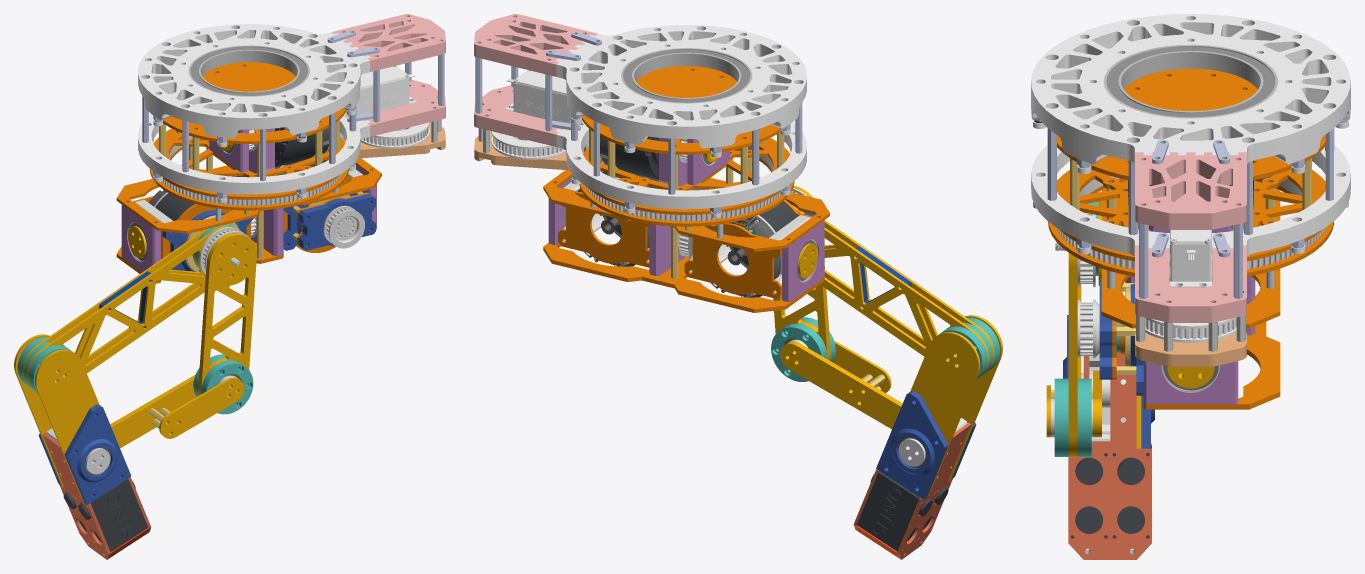
3 renders of one model, left to right at view 1: azimuth 30°, elevation 25°; view 2: azimuth 150°, elevation 25°; view 3: azimuth 270°, elevation 25°, orthographic. The views are drawn at different scales.
Visible parts, largest first — view 1: PRT - Back Support Plate - Chassis-1, PRT - Back Support Plate - Chassis-4, Main Assembly.step-1/Legs _1_.step-1/BC Top Plate.step-1, Main Assembly.step-1/Legs _1_.step-1/AD Top Plate.step-1, Main Assembly.step-1/Legs _1_.step-1/DEF Top Plate.step-1, PRT - Bottom - Bracket-1, Main Assembly.step-1/Legs _1_.step-1/DEF Top Block.step-1, Main Assembly.step-1/Shoulder Parts _1_.step-1/Axis Rear Cov, Main Assembly.step-1/Shoulder Parts _1_.step-1/100x125x13.st, Main Assembly.step-1/Legs _1_.step-1/Servo.step-1, Main Assembly.step-1/Shoulder Parts _1_.step-1/Pitch Body Fr, Main Assembly.step-1/Legs _1_.step-1/AD Bottom Plate.step-1 (+25 smaller); view 2: PRT - Back Support Plate - Chassis-1, PRT - Back Support Plate - Chassis-4, Main Assembly.step-1/Legs _1_.step-1/DEF Bottom Plate.step-1, PRT - Bottom - Bracket-1, Main Assembly.step-1/Legs _1_.step-1/AD Bottom Plate.step-1, Main Assembly.step-1/Legs _1_.step-1/DEF Bottom Block.step-1, Main Assembly.step-1/Shoulder Parts _1_.step-1/Axis Front Co, Main Assembly.step-1/Motors 1 and 2 _1_.step-1/Motor 1 Botto, Main Assembly.step-1/Shoulder Parts _1_.step-1/Axis Rear Cov, Main Assembly.step-1/Legs _1_.step-1/CE Bottom Plate 2.step-, Main Assembly.step-1/Shoulder Parts _1_.step-1/100x125x13.st, Main Assembly.step-1/Motors 1 and 2 _1_.step-1/Motor 2 Botto (+21 smaller); view 3: PRT - Back Support Plate - Chassis-1, Main Assembly.step-1/Legs _1_.step-1/DEF Right Servo Plate.s, PRT - Bottom - Bracket-1, PRT - Back Support Plate - Chassis-4, Main Assembly.step-1/Shoulder Parts _1_.step-1/100x125x13.st, PRT - Bottom - Bracket-3, Main Assembly.step-1/Shoulder Parts _1_.step-1/Pitch Body Fr, Main Assembly.step-1/Shoulder Parts _1_.step-1/Pitch Body Be, Main Assembly.step-1/Shoulder Parts _1_.step-1/Axis Rear Cov, Main Assembly.step-1/Shoulder Parts _1_.step-1/Axis Front Co, Main Assembly.step-1/Shoulder Parts _1_.step-1/Pitch Body Pu (×3), Main Assembly.step-1/Shoulder Parts _1_.step-1/Axis Right St (+26 smaller).
Boxes of the visible parts, x1=… form: PRT - Back Support Plate - Chassis-1: x1=138, y1=24, x2=370, y2=138; PRT - Back Support Plate - Chassis-4: x1=138, y1=114, x2=370, y2=194; Main Assembly.step-1/Legs _1_.step-1/BC Top Plate.step-1: x1=200, y1=234, x2=256, y2=394; Main Assembly.step-1/Legs _1_.step-1/AD Top Plate.step-1: x1=27, y1=226, x2=232, y2=390; Main Assembly.step-1/Legs _1_.step-1/DEF Top Plate.step-1: x1=35, y1=349, x2=99, y2=501; PRT - Bottom - Bracket-1: x1=331, y1=14, x2=445, y2=71; Main Assembly.step-1/Legs _1_.step-1/DEF Top Block.step-1: x1=64, y1=404, x2=131, y2=504; Main Assembly.step-1/Shoulder Parts _1_.step-1/Axis Rear Cov: x1=116, y1=158, x2=381, y2=233; Main Assembly.step-1/Shoulder Parts _1_.step-1/100x125x13.st: x1=188, y1=45, x2=309, y2=96; Main Assembly.step-1/Legs _1_.step-1/Servo.step-1: x1=78, y1=478, x2=148, y2=551; Main Assembly.step-1/Shoulder Parts _1_.step-1/Pitch Body Fr: x1=153, y1=123, x2=344, y2=199; Main Assembly.step-1/Legs _1_.step-1/AD Bottom Plate.step-1: x1=22, y1=224, x2=231, y2=387; PRT - Back Support Plate - Chassis-1: x1=555, y1=25, x2=806, y2=148; PRT - Back Support Plate - Chassis-4: x1=555, y1=122, x2=806, y2=209; Main Assembly.step-1/Legs _1_.step-1/DEF Bottom Plate.step-1: x1=910, y1=332, x2=980, y2=496; PRT - Bottom - Bracket-1: x1=474, y1=14, x2=597, y2=76; Main Assembly.step-1/Legs _1_.step-1/AD Bottom Plate.step-1: x1=791, y1=204, x2=989, y2=376; Main Assembly.step-1/Legs _1_.step-1/DEF Bottom Block.step-1: x1=876, y1=391, x2=948, y2=499; Main Assembly.step-1/Shoulder Parts _1_.step-1/Axis Front Co: x1=543, y1=243, x2=824, y2=312; Main Assembly.step-1/Motors 1 and 2 _1_.step-1/Motor 1 Botto: x1=684, y1=223, x2=781, y2=298; Main Assembly.step-1/Shoulder Parts _1_.step-1/Axis Rear Cov: x1=543, y1=170, x2=829, y2=251; Main Assembly.step-1/Legs _1_.step-1/CE Bottom Plate 2.step-: x1=780, y1=342, x2=901, y2=428; Main Assembly.step-1/Shoulder Parts _1_.step-1/100x125x13.st: x1=621, y1=48, x2=752, y2=103; Main Assembly.step-1/Motors 1 and 2 _1_.step-1/Motor 2 Botto: x1=558, y1=188, x2=649, y2=267; PRT - Back Support Plate - Chassis-1: x1=1031, y1=14, x2=1350, y2=164; Main Assembly.step-1/Legs _1_.step-1/DEF Right Servo Plate.s: x1=1068, y1=352, x2=1151, y2=559; PRT - Bottom - Bracket-1: x1=1135, y1=152, x2=1246, y2=229; PRT - Back Support Plate - Chassis-4: x1=1031, y1=145, x2=1350, y2=261; Main Assembly.step-1/Shoulder Parts _1_.step-1/100x125x13.st: x1=1103, y1=44, x2=1278, y2=118; PRT - Bottom - Bracket-3: x1=1135, y1=245, x2=1246, y2=322; Main Assembly.step-1/Shoulder Parts _1_.step-1/Pitch Body Fr: x1=1057, y1=156, x2=1325, y2=265; Main Assembly.step-1/Shoulder Parts _1_.step-1/Pitch Body Be: x1=1124, y1=68, x2=1257, y2=110; Main Assembly.step-1/Shoulder Parts _1_.step-1/Axis Rear Cov: x1=1101, y1=180, x2=1280, y2=328; Main Assembly.step-1/Shoulder Parts _1_.step-1/Axis Front Co: x1=1143, y1=289, x2=1280, y2=409; Main Assembly.step-1/Shoulder Parts _1_.step-1/Pitch Body Pu (×3): x1=1048, y1=178, x2=1333, y2=280; Main Assembly.step-1/Shoulder Parts _1_.step-1/Axis Right St: x1=1143, y1=361, x2=1238, y2=404.
Size of the model in its own units: 0.5231 by 0.4766 by 0.2289.
